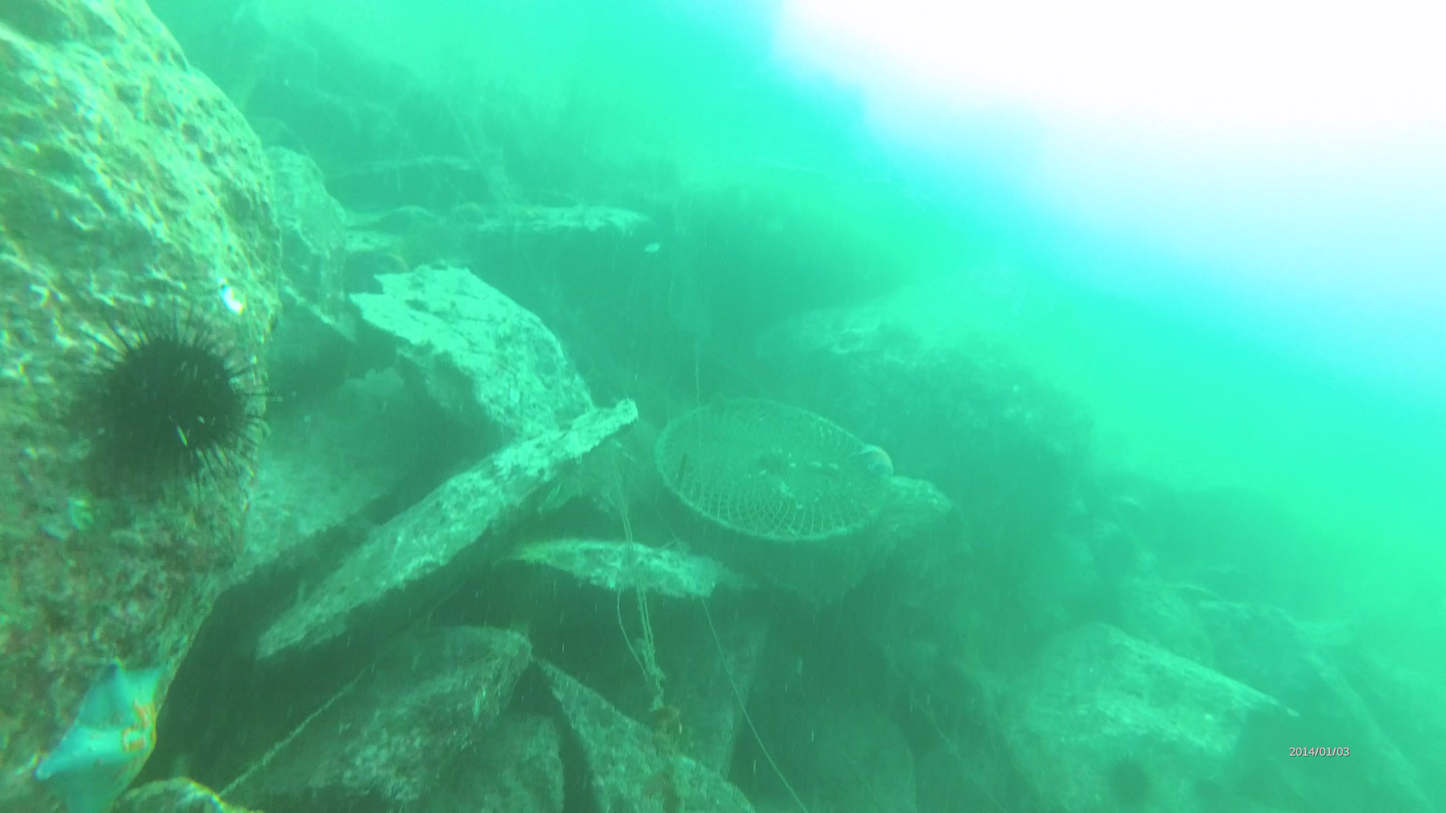holothurian: (34, 661, 171, 812)
starfish: (84, 309, 280, 500), (1107, 752, 1155, 802)
